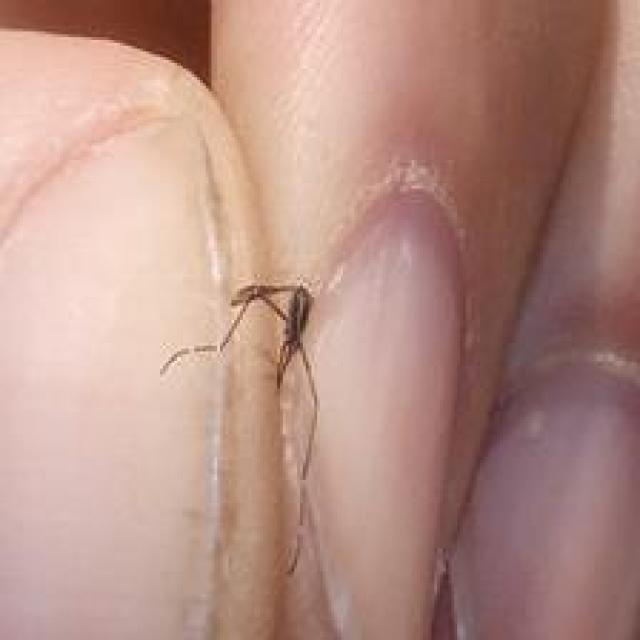Aedes albopictus: (159, 280, 324, 577)
